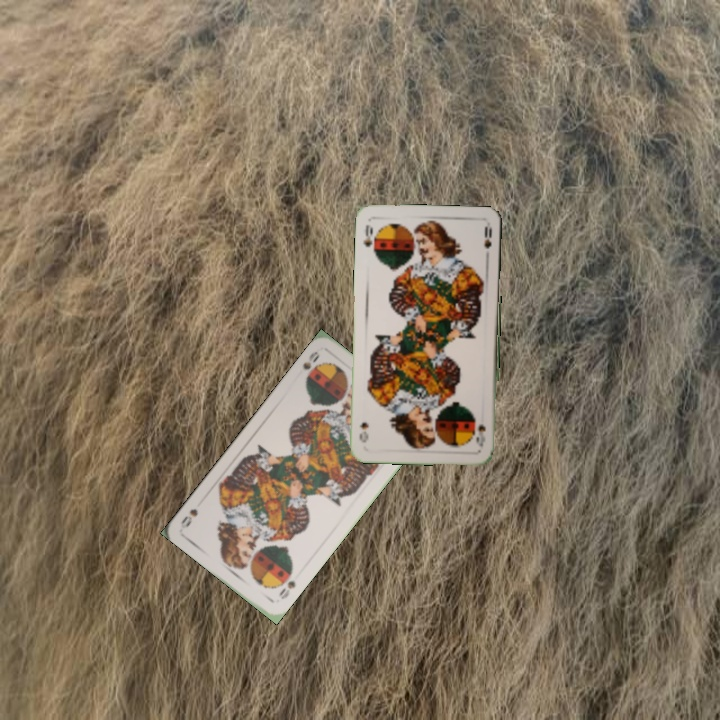SO: (299, 347, 323, 385), (359, 221, 377, 256), (275, 577, 298, 602), (472, 420, 488, 449)
